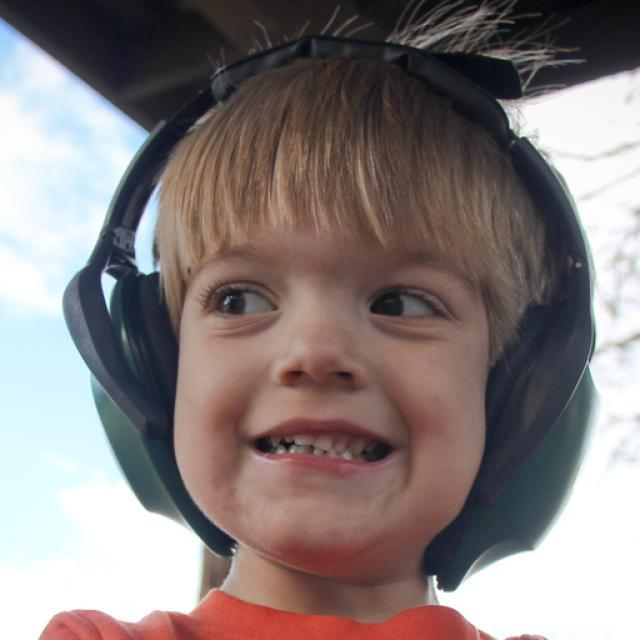happy: (172, 146, 490, 560)
